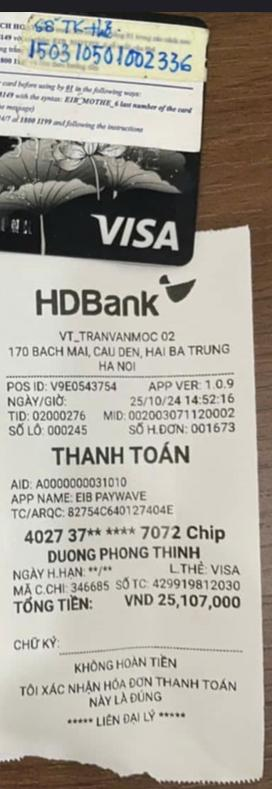receipt: (1, 269, 249, 631)
